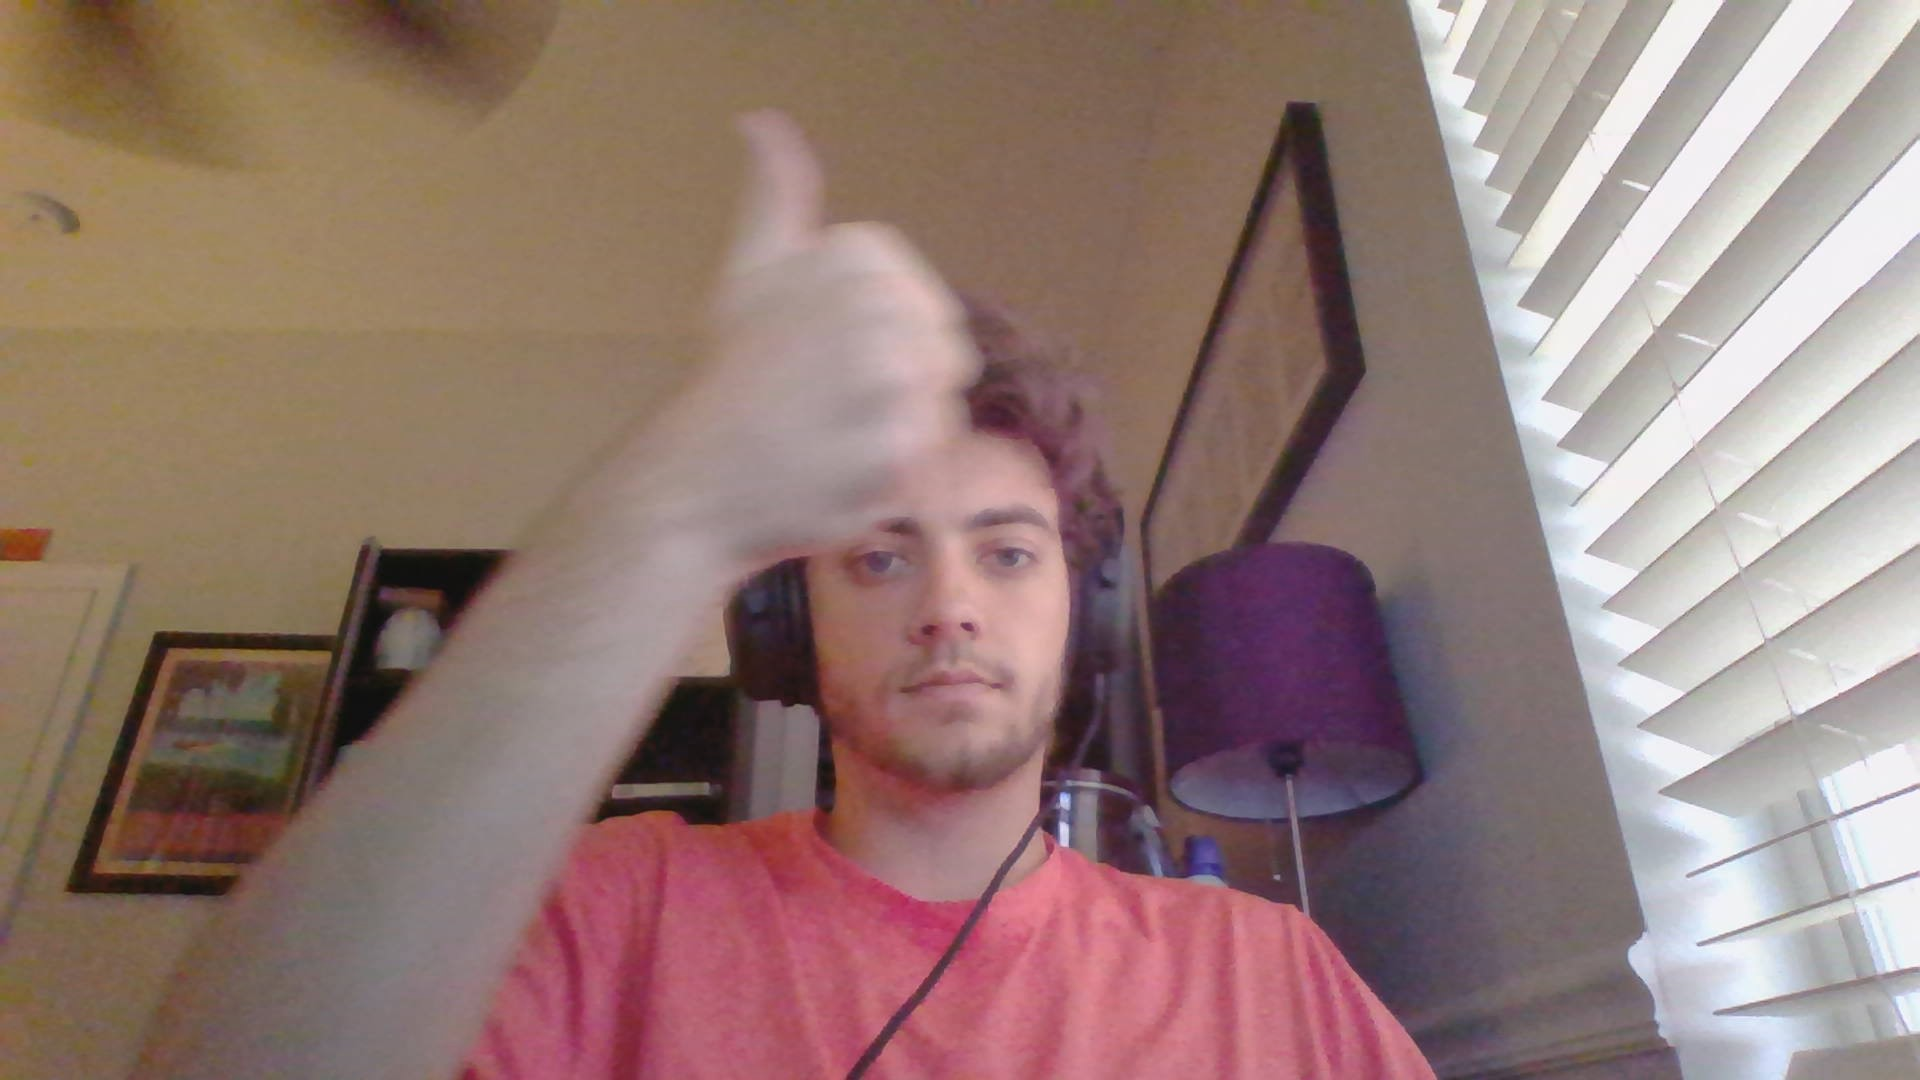Right Thumb Up: (611, 82, 1001, 566)
